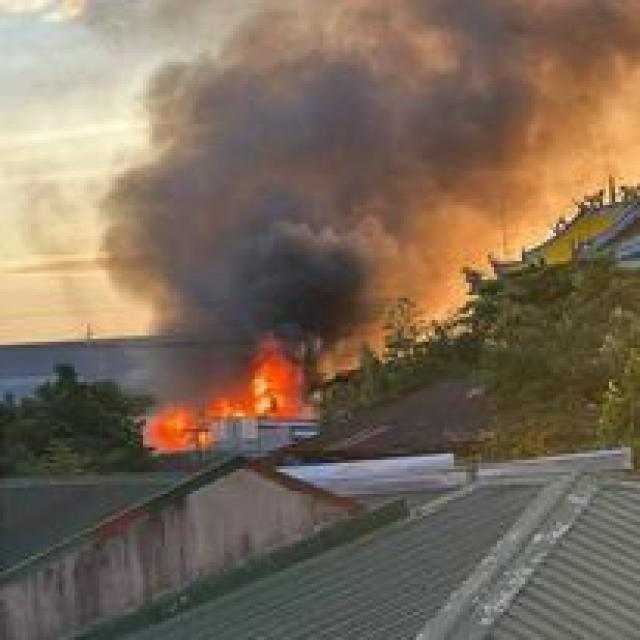Fire: (139, 355, 300, 447)
Smoke: (174, 0, 634, 217), (129, 124, 367, 334), (343, 180, 435, 296)
